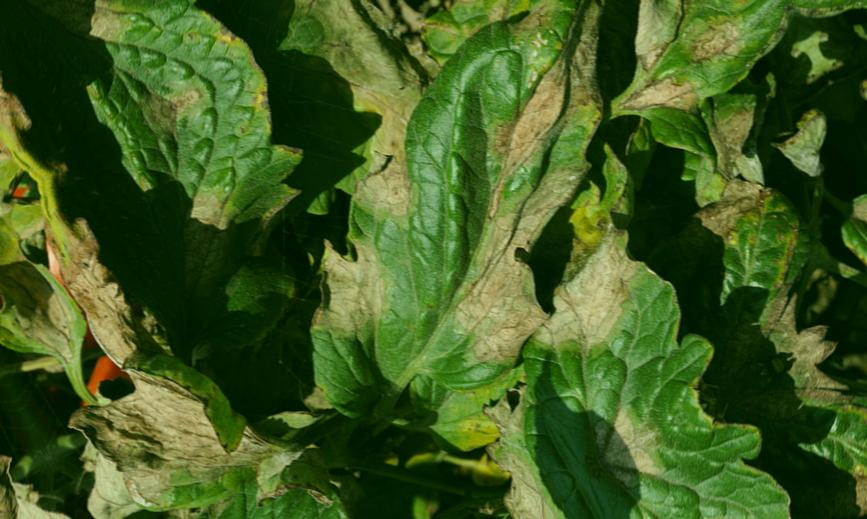Tomato leaf late blight: (173, 0, 740, 457), (383, 195, 746, 519), (0, 242, 346, 519), (56, 55, 367, 353), (503, 0, 818, 161), (106, 434, 413, 519)
